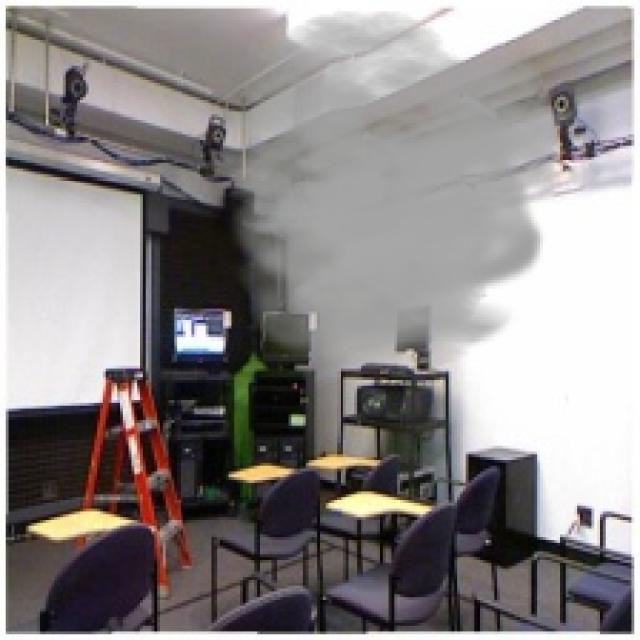smoke: (183, 9, 577, 372)
